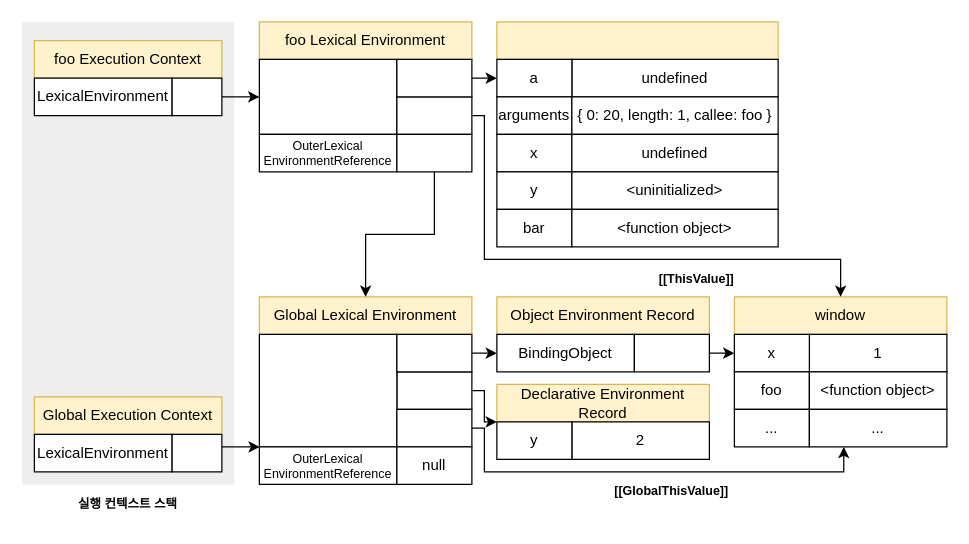
Some shapes in this 969 by 544 pixel diagram are drawn without their labels. The centre of each missing label's shape, as x and y in pixels:
"Function Environment Record" goes at (x=637, y=40).
"FunctionEnvironment Record" goes at (x=327, y=96).
"GlobalEnvironment Record" goes at (x=327, y=390).
